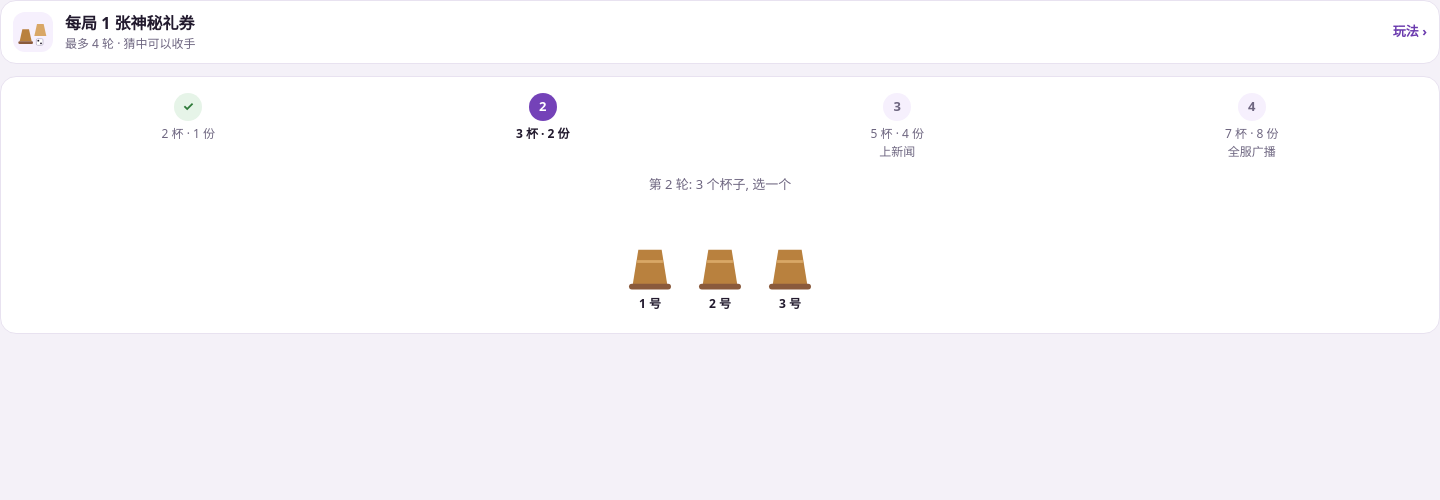
Test: CupPanel › 猜中、不是最后一轮：翻开骰子，问收手还是继续，杯子不能再点；播报区念出来
This screenshot has width=1440, height=500.
Check: the text with test id "cup-pick" reads "第 2 轮: 3 个杯子, 选一个", box x1=649 y1=175 x2=791 y2=193
Click the button with test id "cup-2" at (790, 262), box x1=760 y1=208 x2=820 y2=316
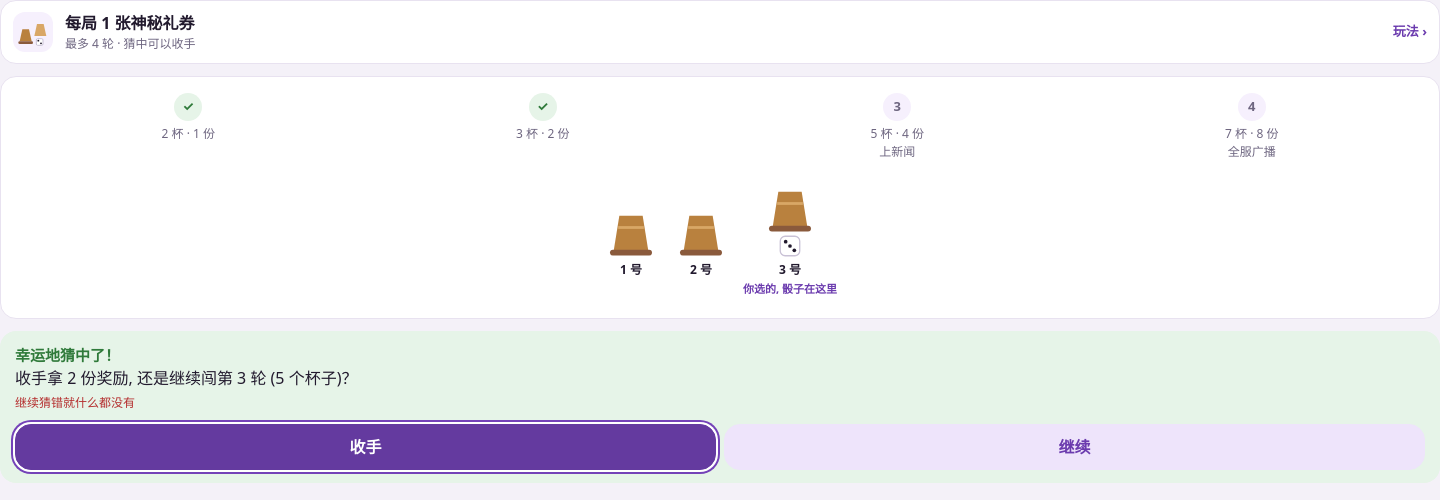
Check: the text "幸运地猜中了！" is shown, box x1=15 y1=344 x2=120 y2=364
Check: the element with test id "cup-won" shows "收手拿 2 份奖励, 还是继续闯第 3 轮 (5 个杯子)？", box x1=15 y1=367 x2=358 y2=389
Check: the text with class "dt-bar-warn" reads "继续猜错就什么都没有", box x1=15 y1=394 x2=135 y2=411
